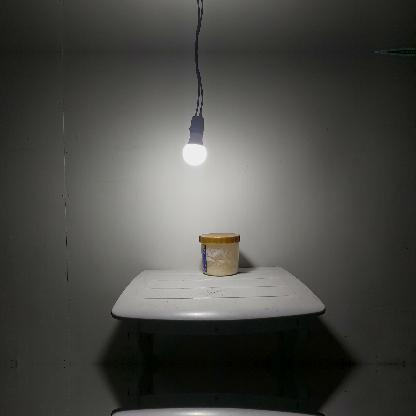Lady-s-Choice: (198, 232, 240, 276)
